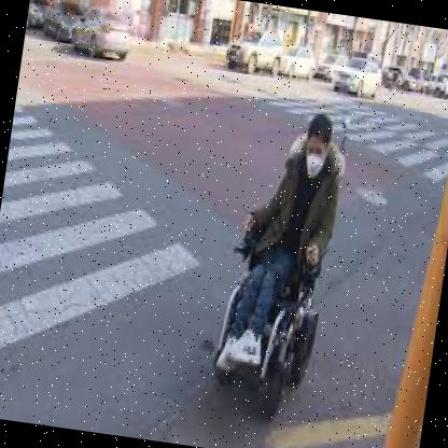wheel: (208, 103, 352, 420)
